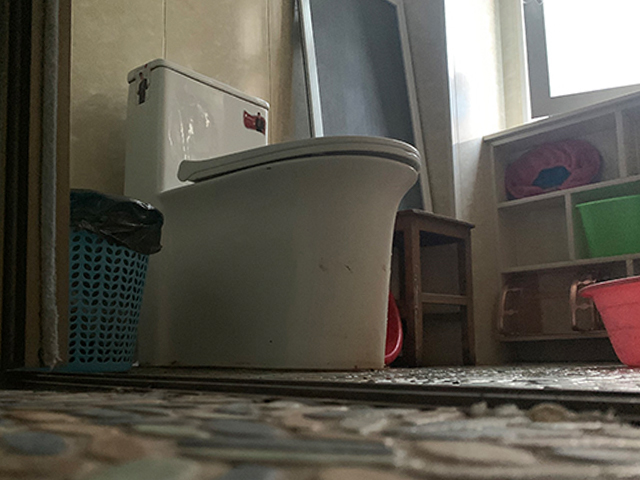closestool: (124, 57, 422, 371)
stool: (392, 207, 480, 366)
trashcan: (65, 186, 165, 374)
